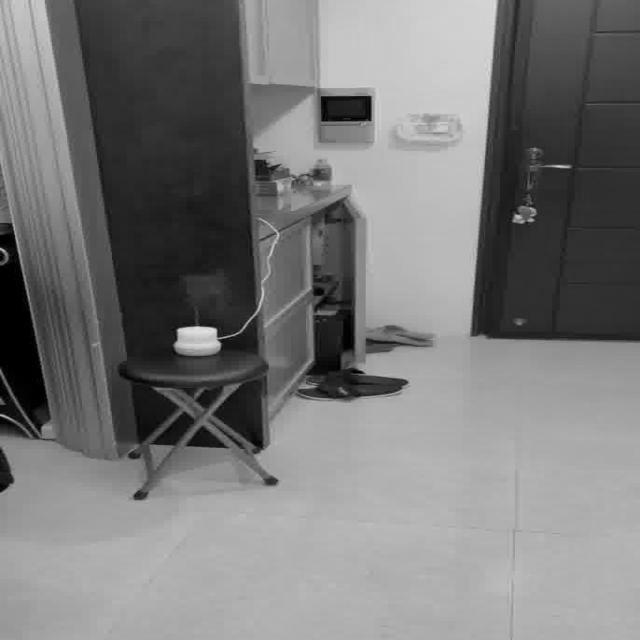fire: (172, 269, 238, 320)
